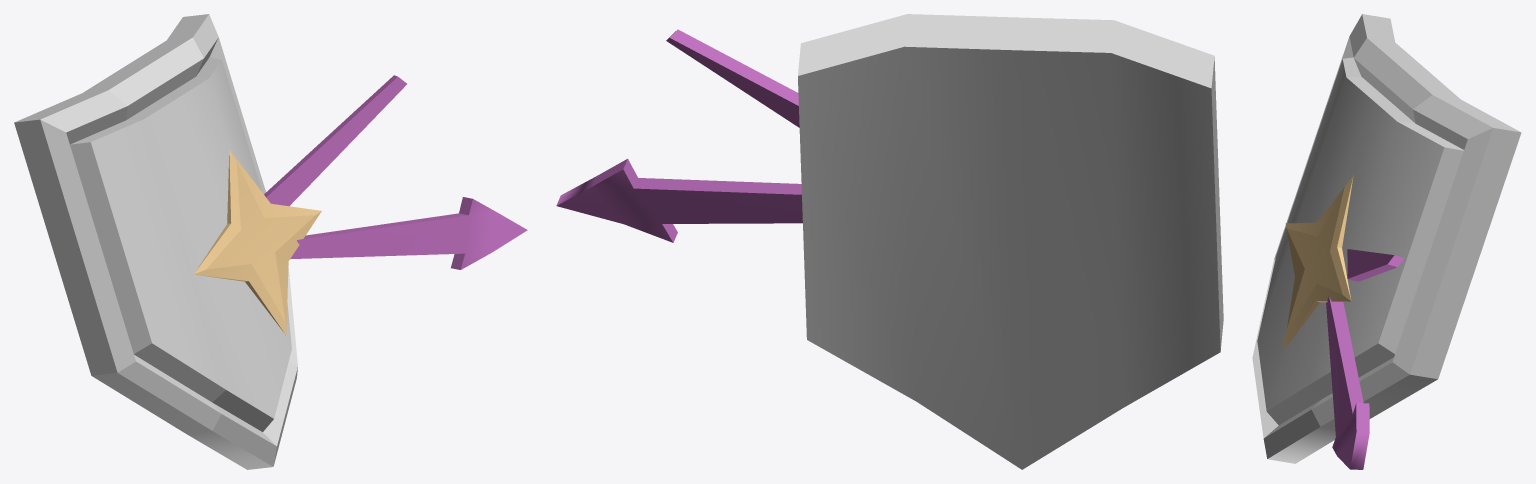
Rendered from PowerUp3_V1.fbx.
3 renders of one model, left to right at view 1: azimuth 30°, elevation 25°; view 2: azimuth 150°, elevation 25°; view 3: azimuth 270°, elevation 25°, orthographic. The views are drawn at different scales.
Visible parts, largest first — view 1: pCube6, pCube8, pCube9, pCube7; view 2: pCube6, pCube9, pCube7; view 3: pCube6, pCube8, pCube9, pCube7.
Boxes of the visible parts, x1,y1,x2,y2 form: pCube6: (14,14,297,469); pCube8: (194,150,321,335); pCube9: (290,197,527,269); pCube7: (264,75,406,206); pCube6: (798,14,1223,469); pCube9: (556,158,802,242); pCube7: (666,29,799,127); pCube6: (1252,14,1521,463); pCube8: (1283,175,1353,349); pCube9: (1326,296,1369,469); pCube7: (1347,249,1404,281).
Size of the model in its own units: 766 by 561 by 364.
